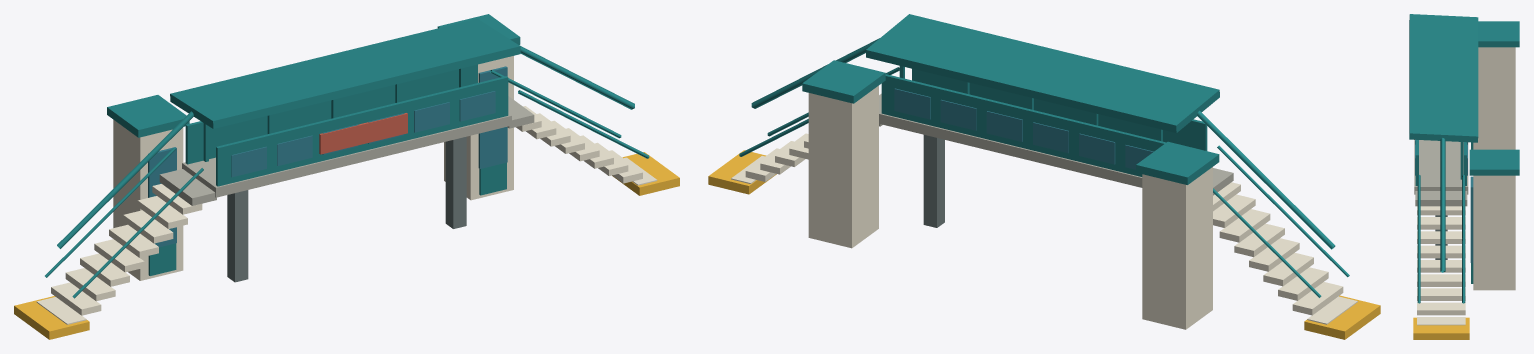
Rendered from overheadbridge-v2.glb.
3 views of the same model, side by side, from view 1: azimuth 30°, elevation 25°; view 2: azimuth 150°, elevation 25°; view 3: azimuth 270°, elevation 25° (orthographic). The views are drawn at different scales.
Visible parts, largest first — view 1: PEDESTRIAN OVERHEAD BRIDGE · Chalk; view 2: PEDESTRIAN OVERHEAD BRIDGE · Chalk; view 3: PEDESTRIAN OVERHEAD BRIDGE · Chalk.
Part boxes in pixels (box(x1,y1,x2,y2)): PEDESTRIAN OVERHEAD BRIDGE · Chalk: box(14, 14, 679, 339); PEDESTRIAN OVERHEAD BRIDGE · Chalk: box(708, 14, 1380, 339); PEDESTRIAN OVERHEAD BRIDGE · Chalk: box(1409, 14, 1519, 339).
Bounding box in the file's own units: 18.76 × 5.18 × 3.56.
Materials: 1 (1 with a texture image).
